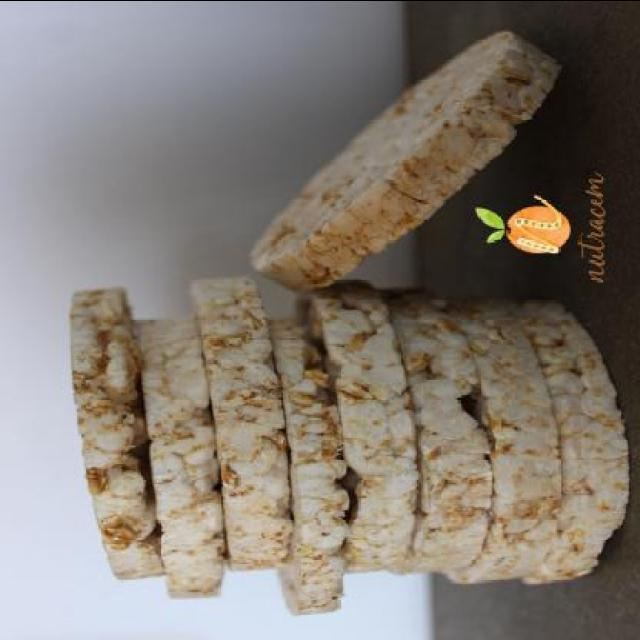Gallette di riso packaged: (66, 292, 634, 616), (245, 34, 557, 286)
